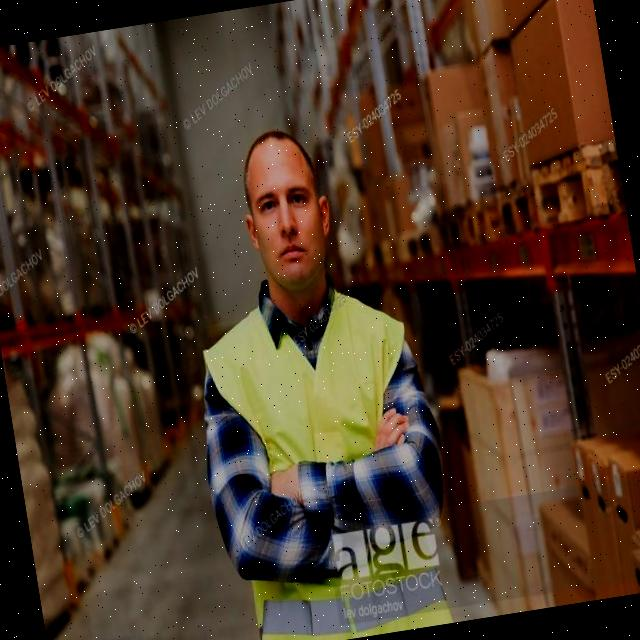vest: (189, 275, 457, 640), (562, 0, 617, 155)
